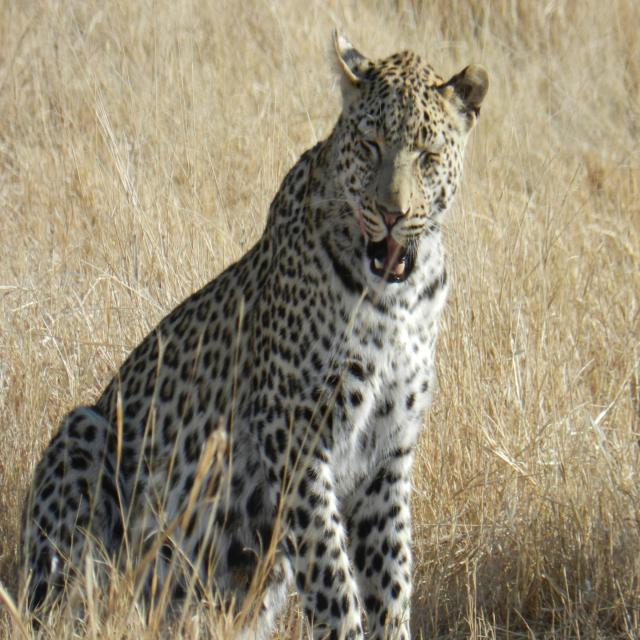Leopard: (33, 32, 640, 638)
